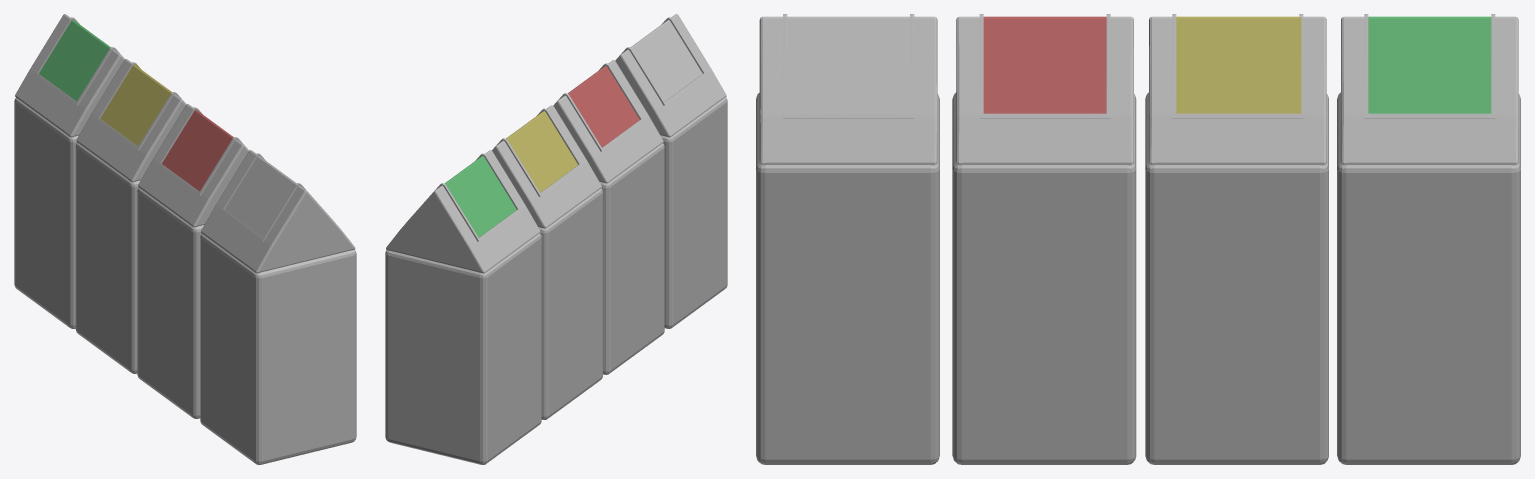
File: MistkuebelDraussen.fbx
The picture shows the model from 3 angles, left to right: view 1: azimuth 30°, elevation 25°; view 2: azimuth 150°, elevation 25°; view 3: azimuth 270°, elevation 25°; orthographic projection. The views are drawn at different scales.
Parts seen in each view (by area): view 1: binVoid, binBoolean, binChar, binString; view 2: binString, binVoid, binBoolean, binChar; view 3: binBoolean, binVoid, binChar, binString.
Part boxes in pixels (left/top/right/bottom): binVoid: left=200, top=150, right=356, bottom=464; binBoolean: left=137, top=104, right=248, bottom=418; binChar: left=75, top=59, right=186, bottom=373; binString: left=14, top=14, right=124, bottom=328; binString: left=385, top=150, right=541, bottom=464; binVoid: left=615, top=14, right=727, bottom=328; binBoolean: left=553, top=60, right=664, bottom=374; binChar: left=492, top=105, right=602, bottom=419; binBoolean: left=952, top=14, right=1136, bottom=464; binVoid: left=756, top=14, right=939, bottom=464; binChar: left=1145, top=14, right=1328, bottom=464; binString: left=1337, top=14, right=1520, bottom=464.
Size of the model in its own units: 2.18 by 5.44 by 9.09.
